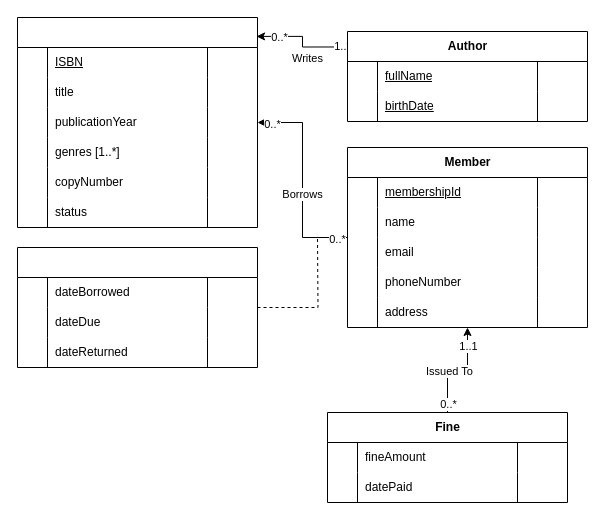
Image size: 605x520. Some labels were removed from this diagram. Here are the shapes that lost their labels. From the top down, the box of each, then its label:
(16, 16, 258, 228): Book
(16, 246, 258, 368): BorrowEvent
